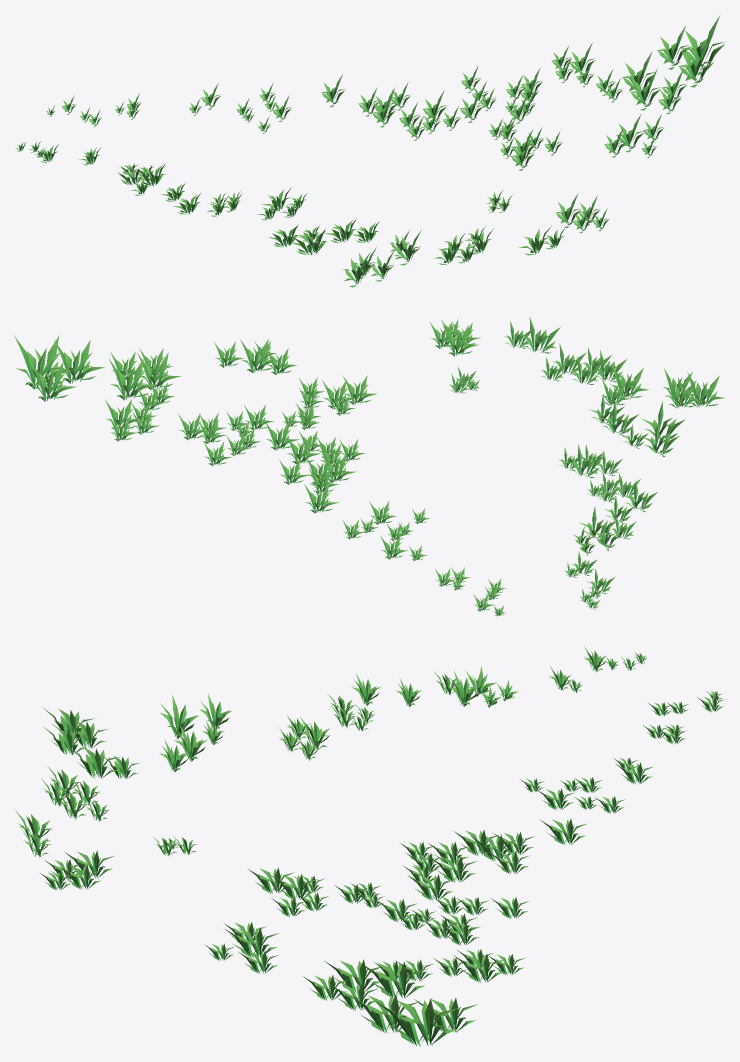
The model's file is area_02_11.fbx.
3 views of the same model, one above another, from view 1: azimuth 30°, elevation 25°; view 2: azimuth 150°, elevation 25°; view 3: azimuth 270°, elevation 25° (orthographic). The views are drawn at different scales.
Parts seen in each view (by area): view 1: area_02_11; view 2: area_02_11; view 3: area_02_11.
Part boxes in pixels (left/top/right/bottom): area_02_11: left=15, top=16, right=724, bottom=287; area_02_11: left=14, top=317, right=724, bottom=616; area_02_11: left=14, top=646, right=724, bottom=1046.
Bounding box in the file's own units: 42.25 × 2.99 × 32.04.
